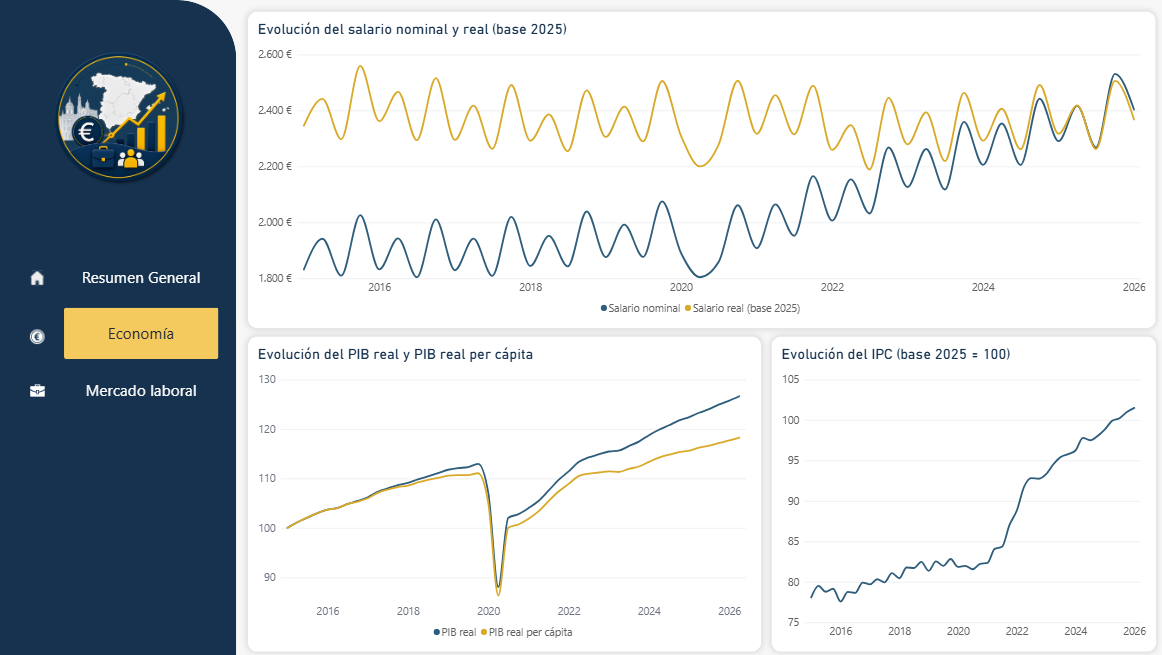

This screenshot's page, from the dashboard's own definition file:
{"tool":"powerbi","page":{"name":"Economía","canvas":[1920,1080],"ordinal":1},"visuals":[{"type":"group","id":"g1","title":"Barra izquierda","box":[0,0,389.2,1080.4],"z":0},{"type":"lineChart","title":"Evolución del salario nominal y real (base 2025)","fields":{"Y":["Sum(purchasing_power_gold.nominal_salary)","Sum(purchasing_power_gold.real_salary_base_2025)"],"Category":["DimPeriod.date"]},"box":[408,18,1496,522],"z":1000},{"type":"lineChart","title":"Evolución del IPC (base 2025 = 100)","fields":{"Category":["DimPeriod.date"],"Y":["Sum(purchasing_power_gold.cpi)"]},"box":[1270,554,634,520],"z":2000},{"type":"lineChart","title":"Evolución del PIB real y PIB real per cápita","fields":{"Category":["DimPeriod.date"],"Y":["Sum(gdp_per_capita_gold.gdp_real_index)","Sum(gdp_per_capita_gold.gdp_per_capita_index)"]},"box":[408,554,846,520],"z":3000},{"type":"shape","box":[0,0,389.2,1080.4],"z":8000,"group":"g1"},{"type":"pageNavigator","box":[105.9,414.3,255.2,272.2],"z":9000,"group":"g1"},{"type":"actionButton","box":[17.1,418.7,89.4,80.5],"z":10000,"group":"g1"},{"type":"actionButton","box":[17.1,513.8,89.4,80.5],"z":11000,"group":"g1"},{"type":"actionButton","box":[19.5,604.1,87,80.5],"z":12000,"group":"g1"},{"type":"shape","box":[79.8,78.7,228.7,229.2],"z":12500,"group":"g1"},{"type":"image","box":[22.3,81.9,344.5,223.3],"z":13000,"group":"g1"}]}

Visuals, with their boxes in screenshot pixels (x1, y1, x2, y2), scaled from the page's 1920x1080 canvas onto the 1162x655 screenshot:
"Barra izquierda" group: bbox=[0, 0, 236, 654]
"Evolución del salario nominal y real (base 2025)" lineChart: bbox=[247, 11, 1152, 328]
"Evolución del IPC (base 2025 = 100)" lineChart: bbox=[769, 336, 1152, 651]
"Evolución del PIB real y PIB real per cápita" lineChart: bbox=[247, 336, 759, 651]
shape: bbox=[0, 0, 236, 654]
pageNavigator: bbox=[64, 251, 219, 416]
actionButton: bbox=[10, 254, 64, 303]
actionButton: bbox=[10, 312, 64, 360]
actionButton: bbox=[12, 366, 64, 415]
shape: bbox=[48, 48, 187, 187]
image: bbox=[13, 50, 222, 185]
